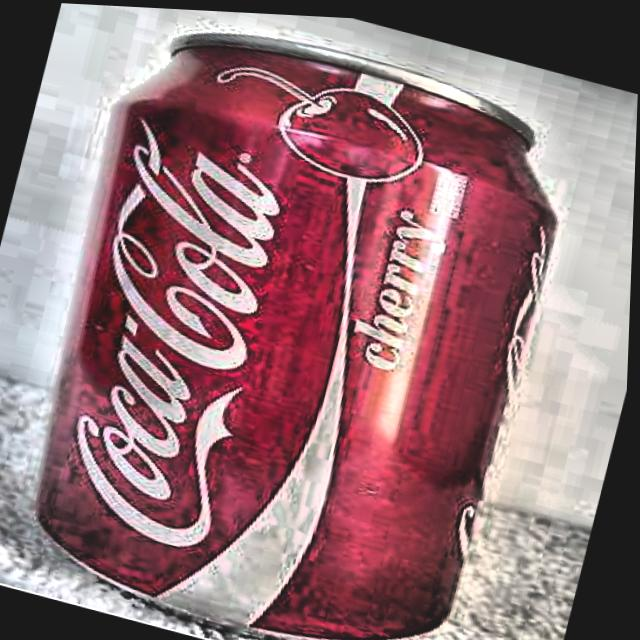Cans: (0, 0, 586, 640)
